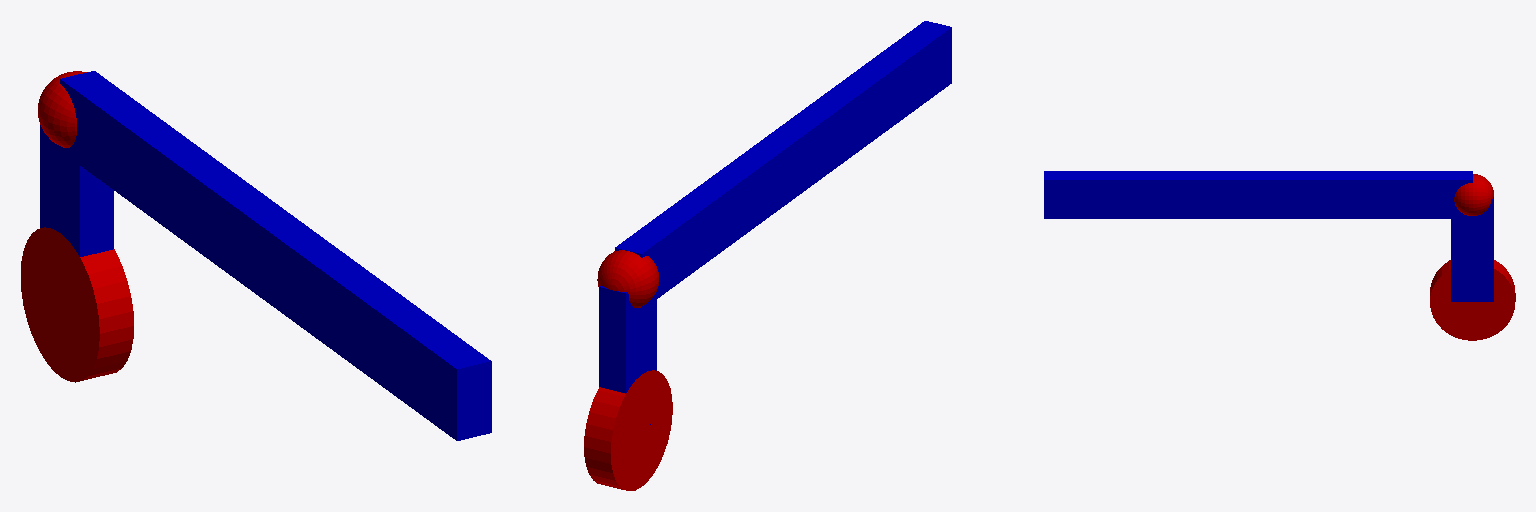
URDF robot description (TwoLinkStruct8669706642):
<?xml version="1.0"?>
<robot  name="TwoLinkStruct8669706642" >
 <material  name="blue" >
  <color  rgba="0 0 0.8 1.0" />
 </material>
 <material  name="red" >
  <color  rgba="0.8 0 0 1.0" />
 </material>
 <link  name="base_link" >
  <visual >
   <origin  rpy="0 1.5707 0"  xyz="0 0 0" />
   <material  name="red" />
   <geometry >
    <cylinder  length="0.05"  radius="0.1" />
   </geometry>
  </visual>
 </link>
 <joint  type="revolute"  name="joint1" >
  <parent  link="base_link" />
  <child  link="link1" />
  <origin  xyz="0 0 0"  rpy="0 0 0" />
  <axis  xyz="1 0 0" />
 </joint>
 <link  name="link1" >
  <inertial >
   <origin  rpy="0 0 0"  xyz="0 0 0.13204886369481333" />
   <mass  value="0.5561785918649398" />
   <inertia  ixy="0.0"  iyy="0.00023174107994372494"  izz="0.003348547814984447"  ixz="0.0"  ixx="0.003348547814984447"  iyz="0.0" />
  </inertial>
  <visual >
   <origin  rpy="0 0 0"  xyz="0 0 0.13204886369481333" />
   <material  name="blue" />
   <geometry >
    <box  size="0.05 0.1 0.26409772738962667" />
   </geometry>
  </visual>
 </link>
 <joint  type="fixed"  name="joint-joint-1" >
  <parent  link="link1" />
  <child  link="joint-link-1" />
  <origin  xyz="0 0 0.26409772738962667"  rpy="1.5707 0 0" />
  <axis  xyz="1 0 0" />
 </joint>
 <link  name="joint-link-1" >
  <inertial >
   <origin  rpy="0 0 0"  xyz="0 0 0" />
   <mass  value="3.570352652755812" />
   <inertia  ixy="0"  iyy="0"  izz="0"  ixz="0"  ixx="0"  iyz="0" />
  </inertial>
  <visual >
   <origin  rpy="0 0 0"  xyz="0 0 0" />
   <material  name="red" />
   <geometry >
    <sphere  radius="0.05" />
   </geometry>
  </visual>
 </link>
 <joint  type="revolute"  name="joint2" >
  <parent  link="link1" />
  <child  link="link2" />
  <origin  xyz="0 0 0.26409772738962667"  rpy="1.5707 0 0" />
  <axis  xyz="1 0 0" />
 </joint>
 <link  name="link2" >
  <inertial >
   <origin  rpy="0 0 0"  xyz="0 0 0.5" />
   <mass  value="4.024081230163574" />
   <inertia  ixy="0.0"  iyy="0.00023174107994372494"  izz="0.04646408652871684"  ixz="0.0"  ixx="0.04646408652871684"  iyz="0.0" />
  </inertial>
  <visual >
   <origin  rpy="0 0 0"  xyz="0 0 0.5" />
   <material  name="blue" />
   <geometry >
    <box  size="0.05 0.1 1.0" />
   </geometry>
  </visual>
 </link>
 <joint  type="fixed"  name="eef_joint" >
  <parent  link="link2" />
  <child  link="eef" />
  <origin  xyz="0 0 1.0"  rpy="0 0 0" />
 </joint>
 <link  name="eef" >
  <inertial >
   <origin  rpy="0 0 0"  xyz="0 0 0" />
   <mass  value="1" />
   <inertia  ixy="0"  iyy="0"  izz="0"  ixz="0"  ixx="0"  iyz="0" />
  </inertial>
 </link>
 <transmission  name="motor1" >
  <type  xmltext="SimpleTransmission" >
   SimpleTransmission
  </type>
  <actuator  name="motor1" >
   <mechanicalreduction  xmltext="1" >
    1
   </mechanicalreduction>
  </actuator>
  <joint  name="joint1" />
 </transmission>
 <transmission  name="motor2" >
  <type  xmltext="SimpleTransmission" >
   SimpleTransmission
  </type>
  <actuator  name="motor2" >
   <mechanicalreduction  xmltext="1" >
    1
   </mechanicalreduction>
  </actuator>
  <joint  name="joint2" />
 </transmission>
</robot>

<!-- {'carti': array([-0.1 ,  0.14,  0.85]), 'cartd': array([-0.1 ,  0.32,  1.29]), 'tau_mu': 0.7132202084711668, 'b0': 0.0, 'Km': 4.038340160560903, 'k_velocity': 87.39170415395044, 'tau_max_m': 2.4148250320318274, 'omega_max_m': 5121.116021144408, 'gear_ratio': 0.1, 'Kp': 34.15439031938142, 'Kd': 0.0, 'm_m': 3.570352652755812, 'l1': 0.26409772738962667, 'l2': 1.0, 'k1': 30900.0, 'k2': 140935300.0245862, 'k3': 163738837.25276127}-->

--- Render facts (derived) ---
3 views of the same robot in one strip: view 1: azimuth 30°, elevation 25°; view 2: azimuth 150°, elevation 25°; view 3: azimuth 270°, elevation 25° (orthographic).
Robot: TwoLinkStruct8669706642 — 5 links, 4 joints (2 revolute, 2 fixed); root link base_link; default pose: every joint at zero.
Links seen in each view (by area): view 1: link2, base_link, link1, joint-link-1; view 2: link2, base_link, link1, joint-link-1; view 3: link2, base_link, link1, joint-link-1.
Link boxes in pixels (x1,y1,x2,y2): link2: (60, 71, 491, 440); base_link: (21, 227, 133, 382); link1: (40, 125, 113, 256); joint-link-1: (38, 71, 86, 147); link2: (615, 21, 951, 307); base_link: (584, 370, 672, 490); link1: (599, 286, 656, 424); joint-link-1: (597, 250, 658, 307); link2: (1044, 171, 1472, 218); base_link: (1430, 260, 1515, 340); link1: (1451, 197, 1493, 301); joint-link-1: (1454, 174, 1493, 215).
Bounding box of the posed robot: 0.1 × 1.1 × 0.4142 m (x, y, z).
Geometry: primitives only (box / cylinder / sphere), no mesh files.
